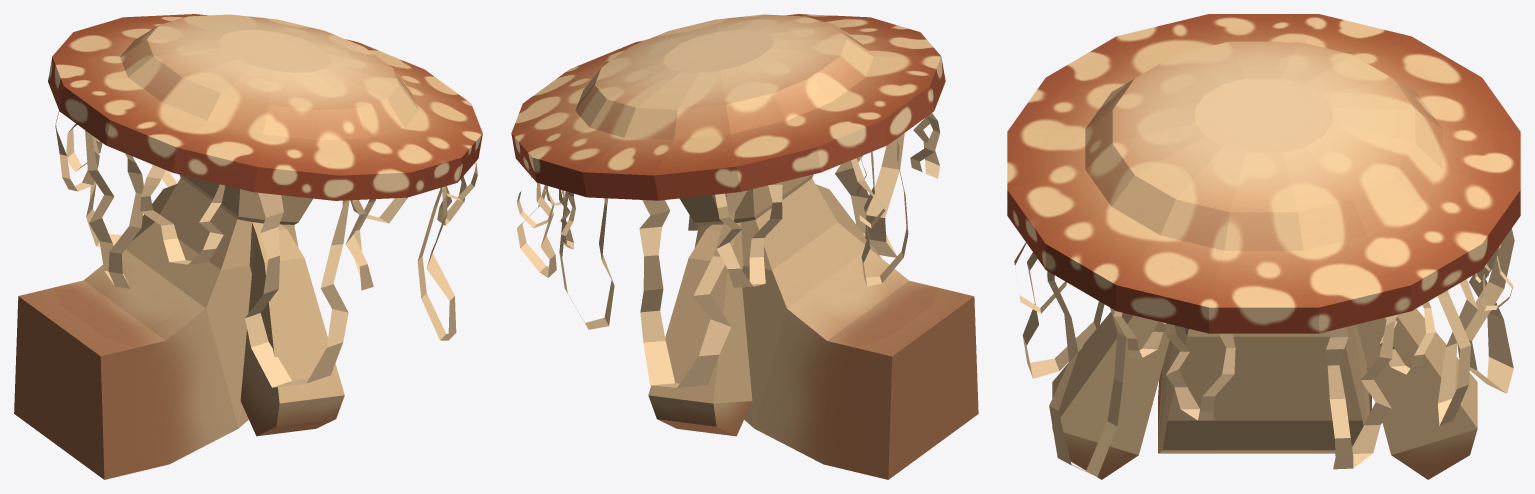
File: fuckdup.fbx
3 renders of one model, left to right at view 1: azimuth 30°, elevation 25°; view 2: azimuth 150°, elevation 25°; view 3: azimuth 270°, elevation 25°, orthographic. The views are drawn at different scales.
Parts seen in each view (by area): view 1: Cube; view 2: Cube; view 3: Cube.
Boxes of the visible parts, x1,y1,x2,y2 form: Cube: (14,14,482,479); Cube: (511,14,978,479); Cube: (1007,14,1520,479).
Bounding box in the file's own units: 3186 × 2775 × 3076.
1 material, 1 textured.
